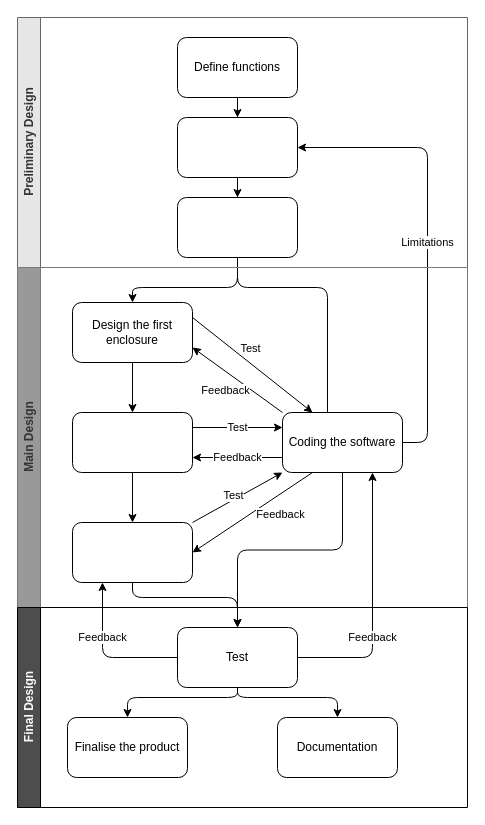
Image size: 485x825. Some labels were removed from this diagram. The shapes that lost their labels are listed below. From the top down, each one's centre as x and y in pixels, then its label:
At (x=237, y=147): "Search components".
At (x=237, y=227): "Test the components with a breadboard".
At (x=132, y=442): "Design the second enclosure".
At (x=132, y=552): "Design the final enclosure".
